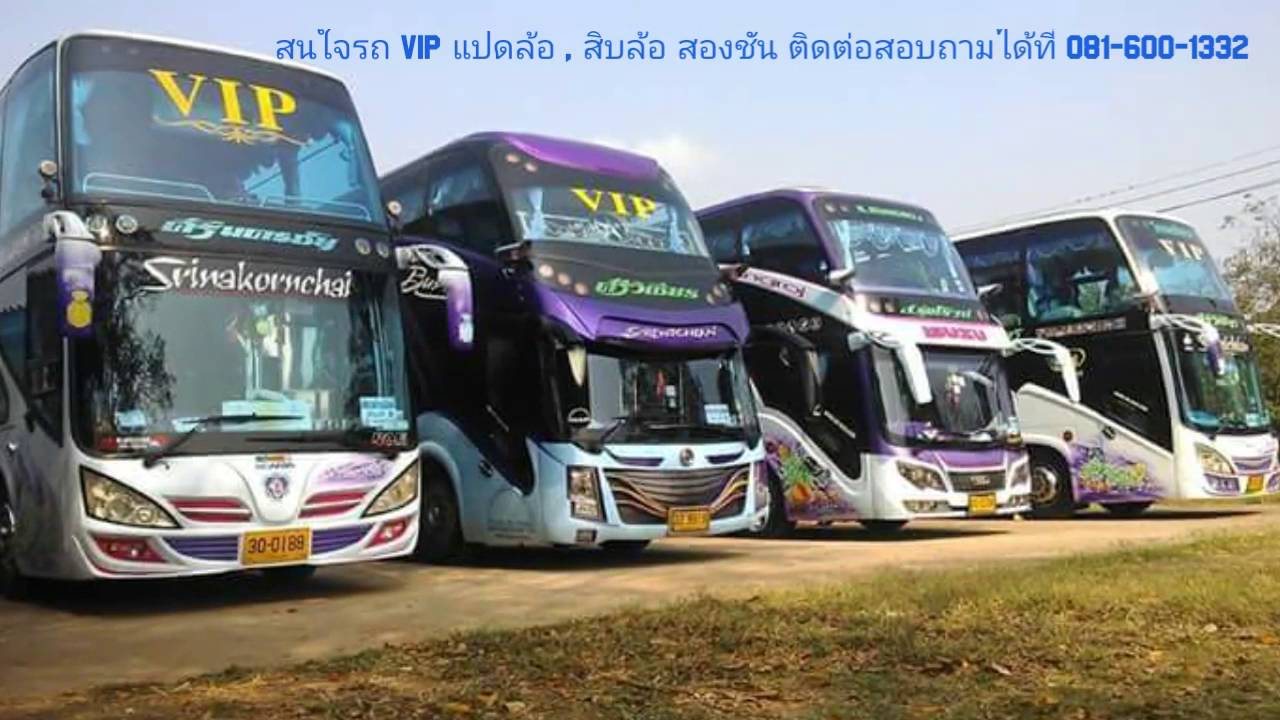bus: (1, 82, 403, 589), (406, 127, 768, 549), (772, 185, 1029, 527), (1036, 206, 1275, 512)
